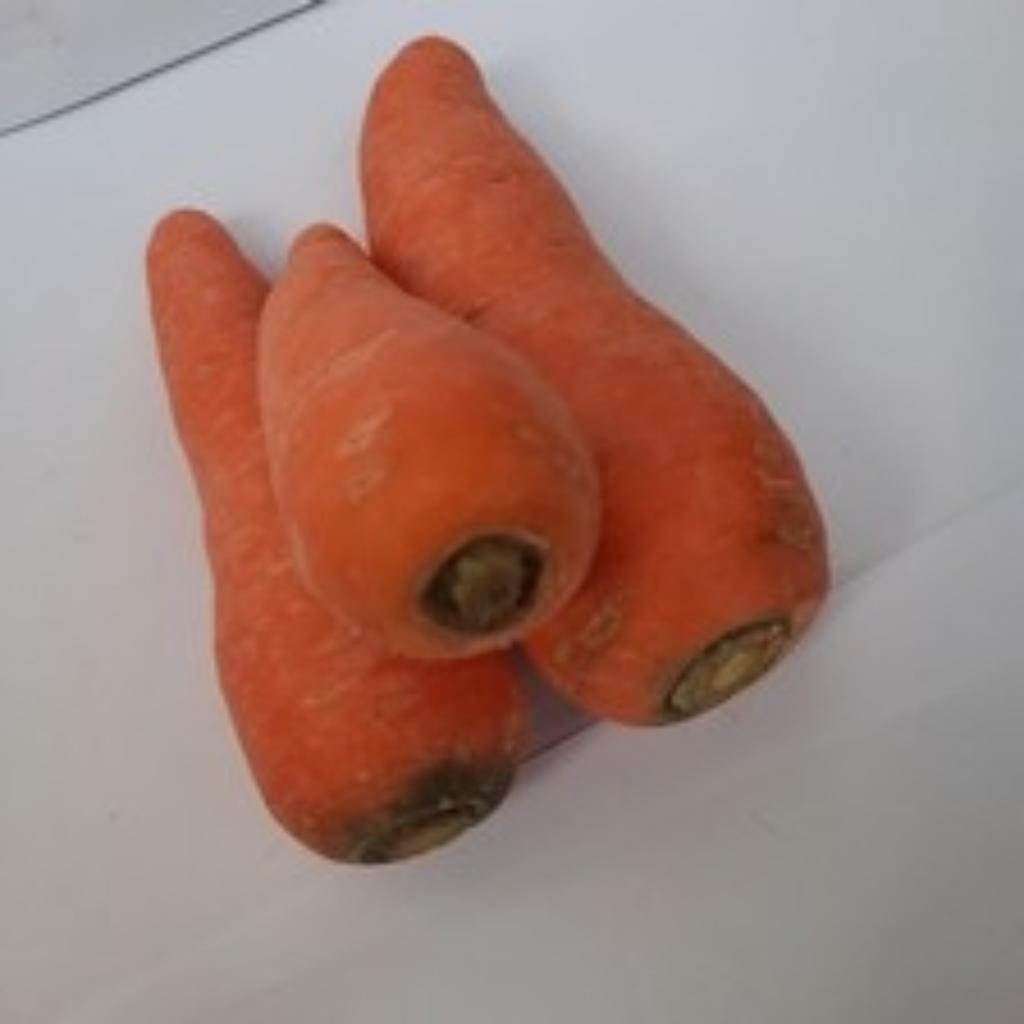carrot: (357, 32, 818, 713), (142, 206, 517, 855), (256, 224, 590, 649)
